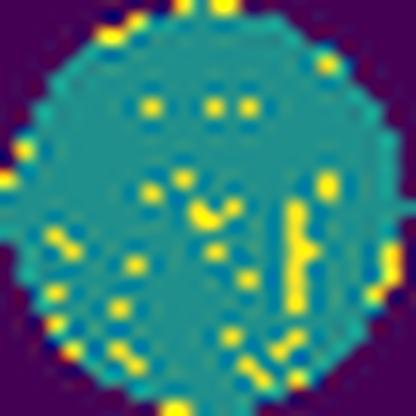Scratch: (277, 194, 328, 319)
